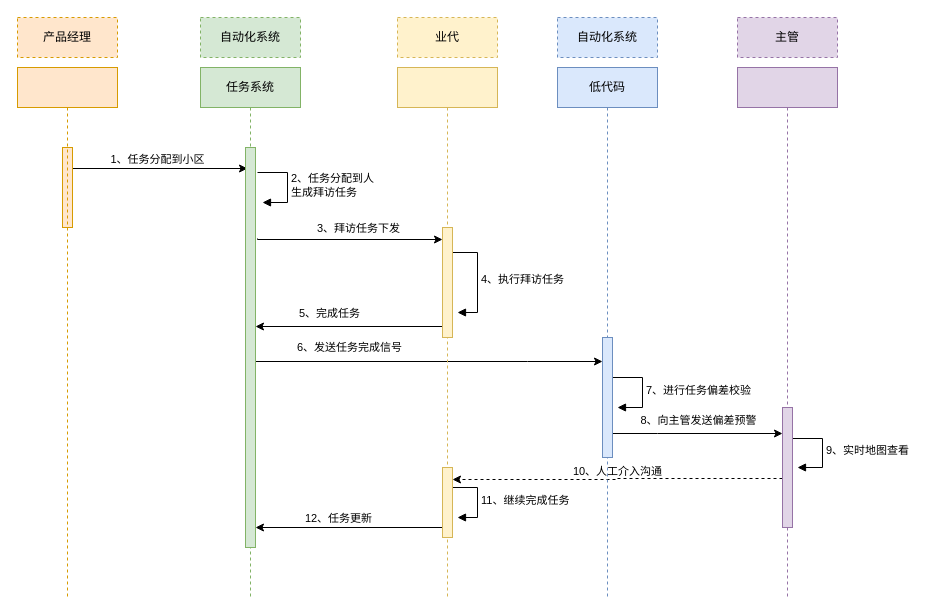
Image size: 927x615. Some labels were removed from this diagram. Each missing label, with the box of its shape:
DSFA: (396, 66, 498, 598)
企微: (736, 66, 838, 598)
目标管理: (16, 66, 118, 598)
